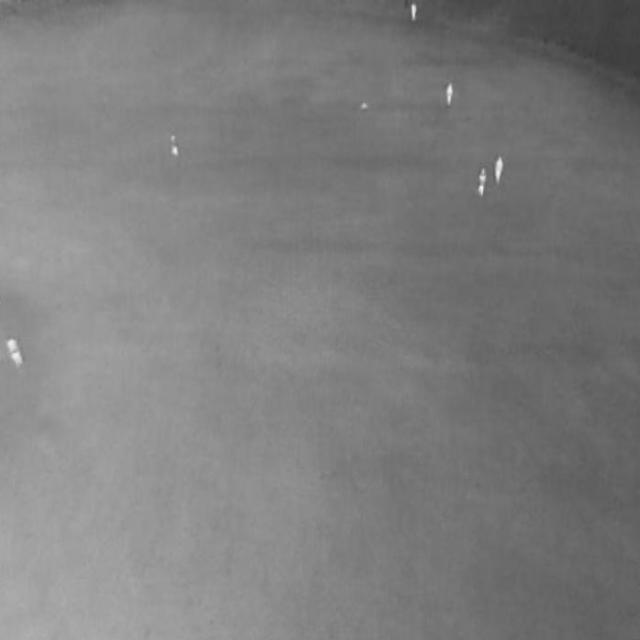person: (5, 338, 26, 369), (476, 170, 487, 199), (494, 158, 504, 188), (170, 134, 181, 159), (410, 2, 419, 25), (445, 83, 454, 106)
